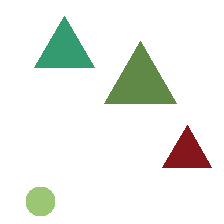circle: (26, 187, 54, 215)
triangle: (104, 41, 176, 103), (34, 16, 94, 67), (162, 125, 211, 167)
